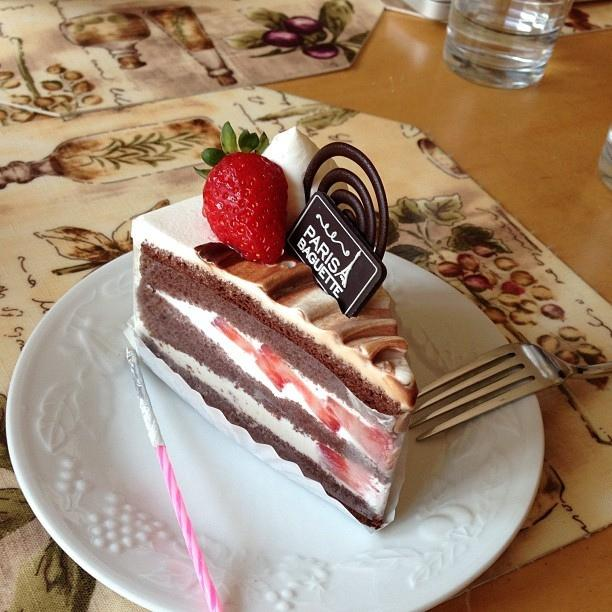strawberry: (202, 152, 288, 266), (324, 396, 389, 462), (293, 378, 340, 431), (319, 444, 360, 490), (210, 316, 258, 354)
